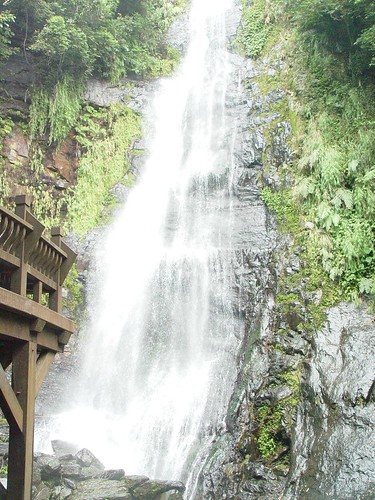wufengciWaterfall: (83, 3, 277, 479)
